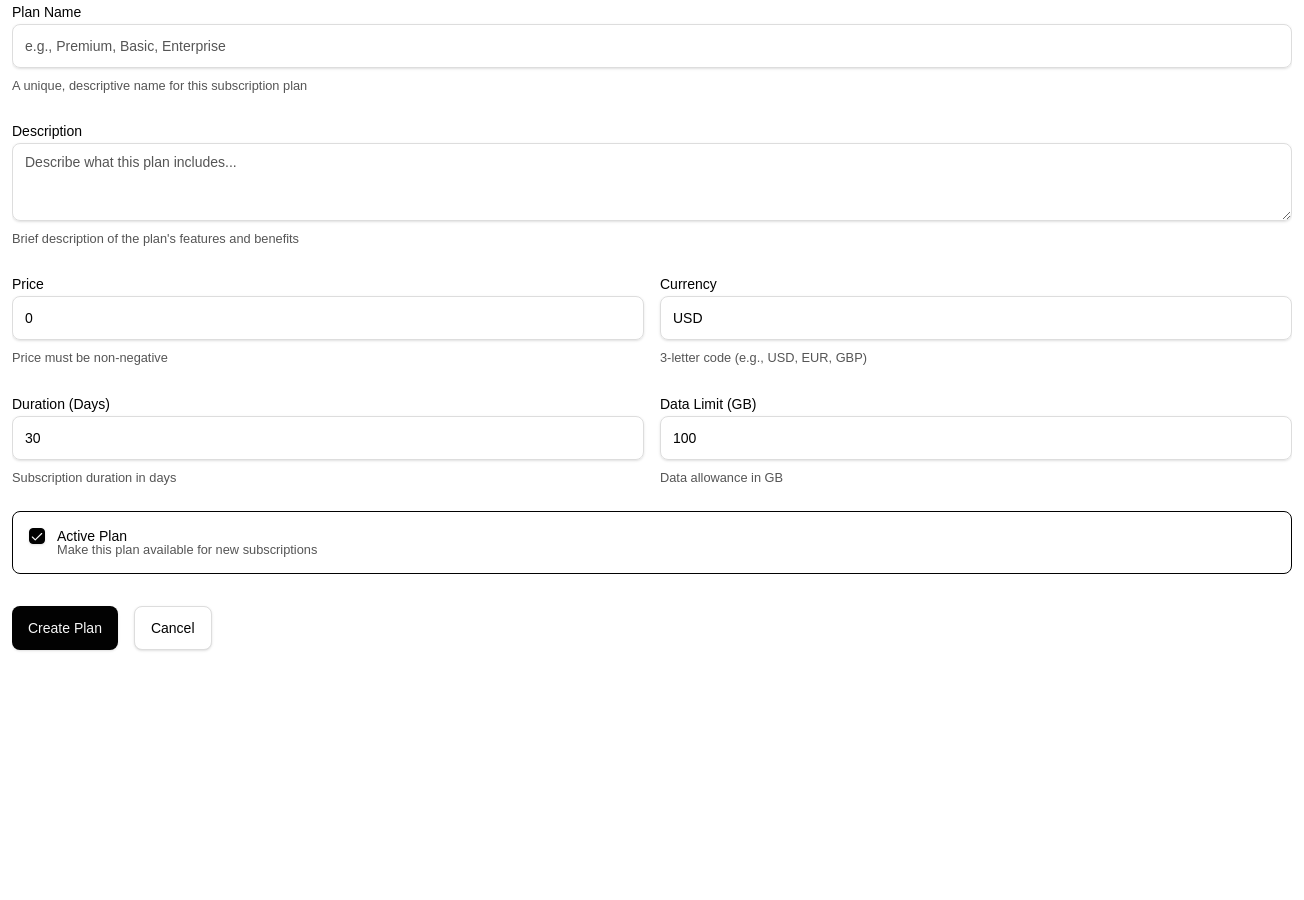
Test case: PlanCreationForm › validates plan name is required
Click the button "Create Plan". click: (65, 628)
box: top-left (12, 606), bottom-right (118, 650)
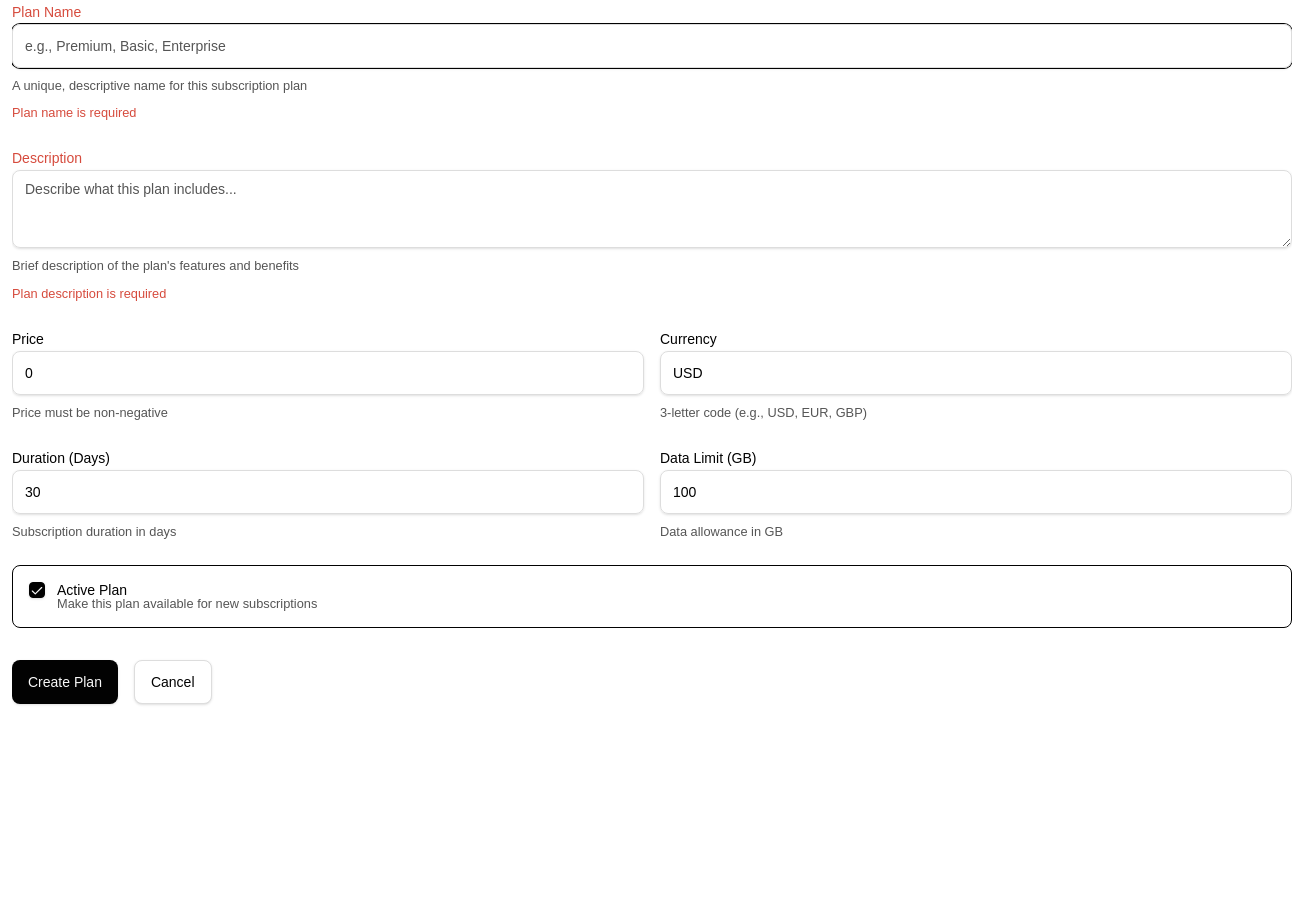
Check: the text "Plan name is required" is shown, box top-left (12, 105), bottom-right (136, 120)
